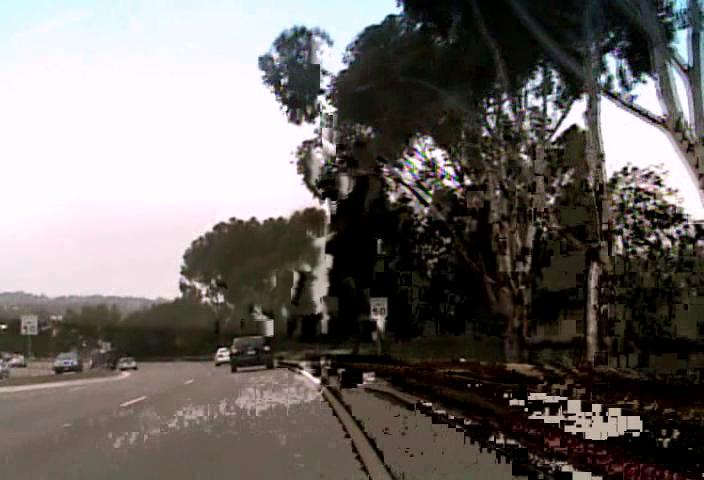speedLimitUrdbl: (19, 312, 38, 336)
